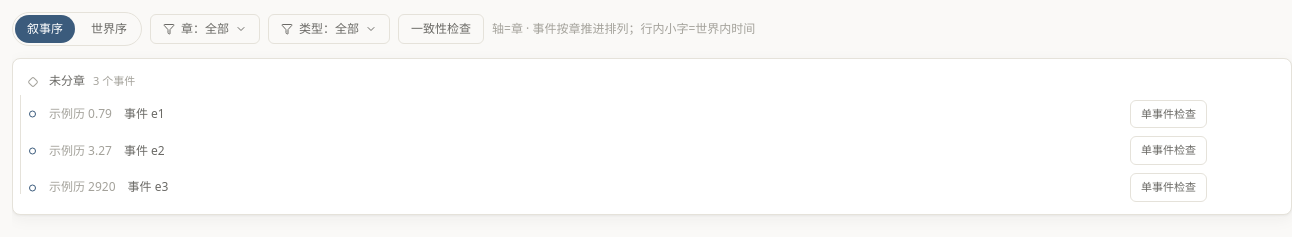
Test: #1589 刻度带标签（组件级） › C2 未配历法的轴：回落「N 日」整数（N1/N8 零回归；`0.79 日` 不再出现）
Click the button with test id "tl-view-world". click: (109, 29)
box: left=79, top=15, right=139, bottom=43
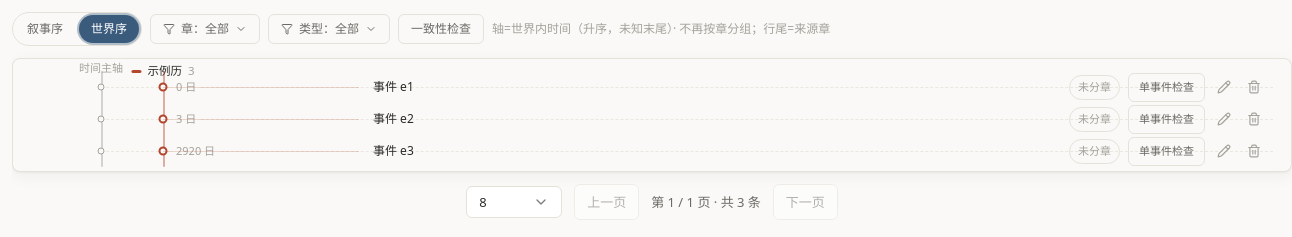
Now the text "2920 日" is shown, box left=172, top=142, right=219, bottom=161
Now the text "0 日" is shown, box left=172, top=78, right=200, bottom=97
